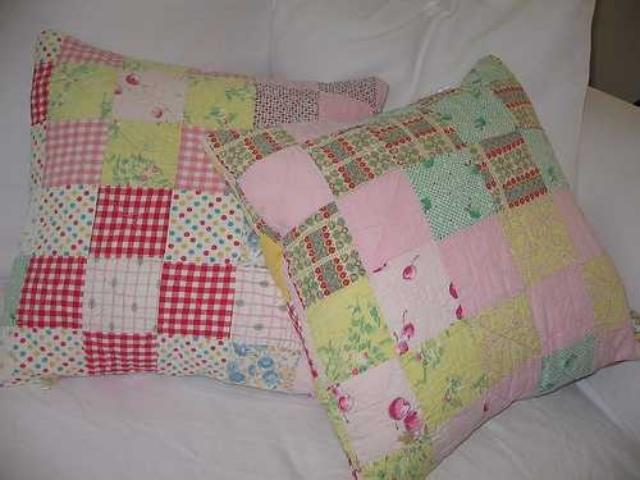pillow: (202, 52, 638, 478), (36, 20, 388, 412)
